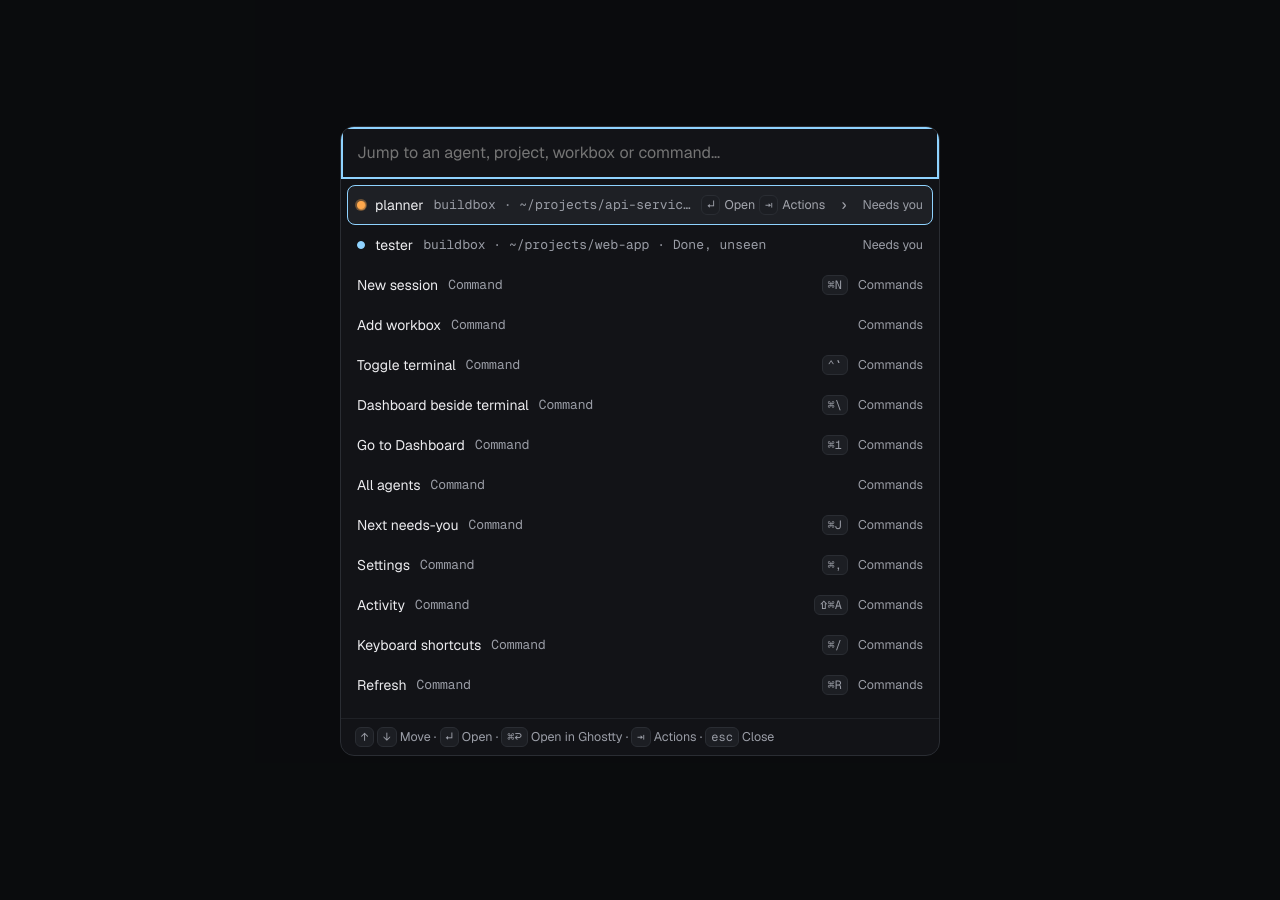
Scenario: CommandPalette agent frame › never_offers_reply_for_a_blocked_agent
Type "planner" into the dropdown at (640, 153), box [341, 127, 939, 179]
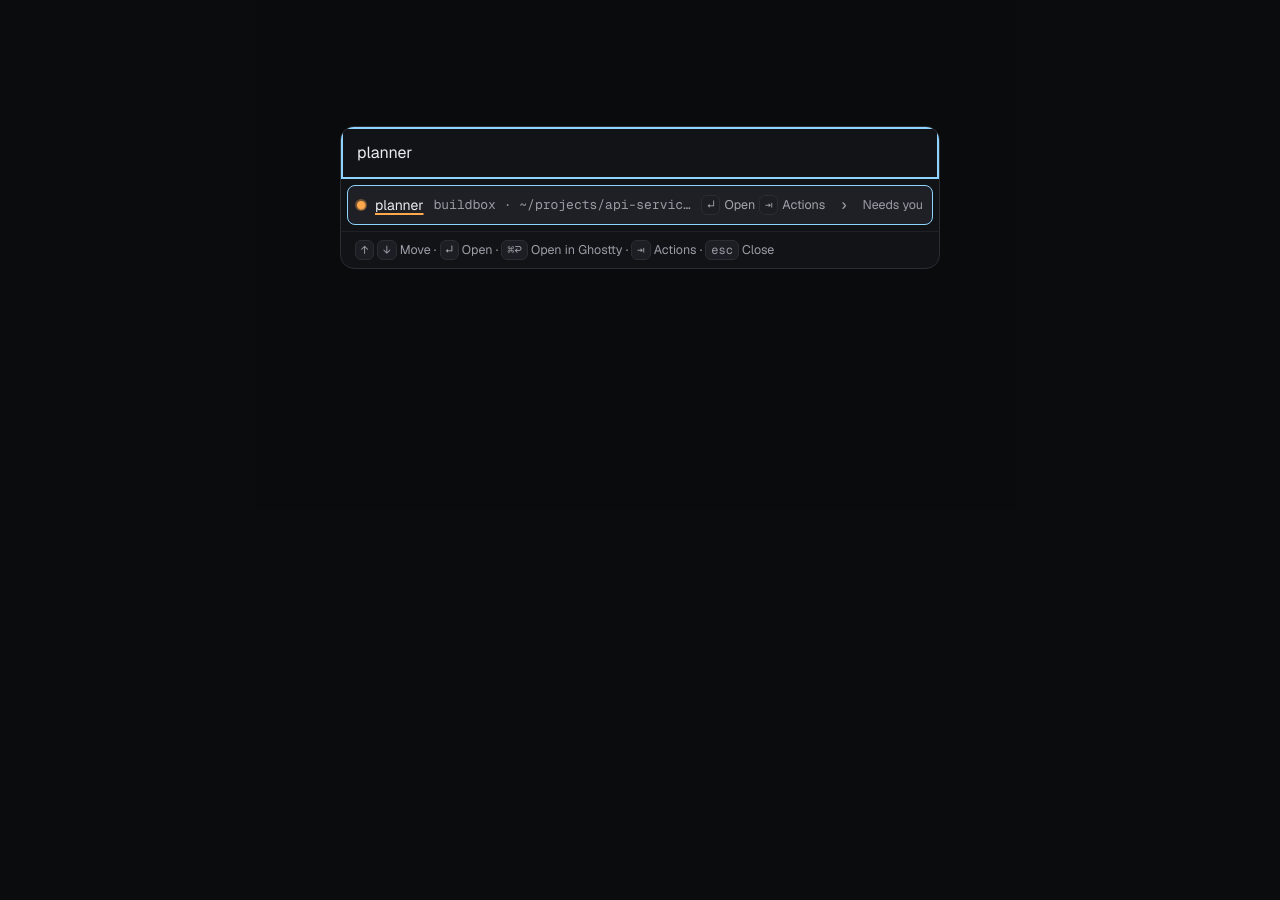
Press Tab
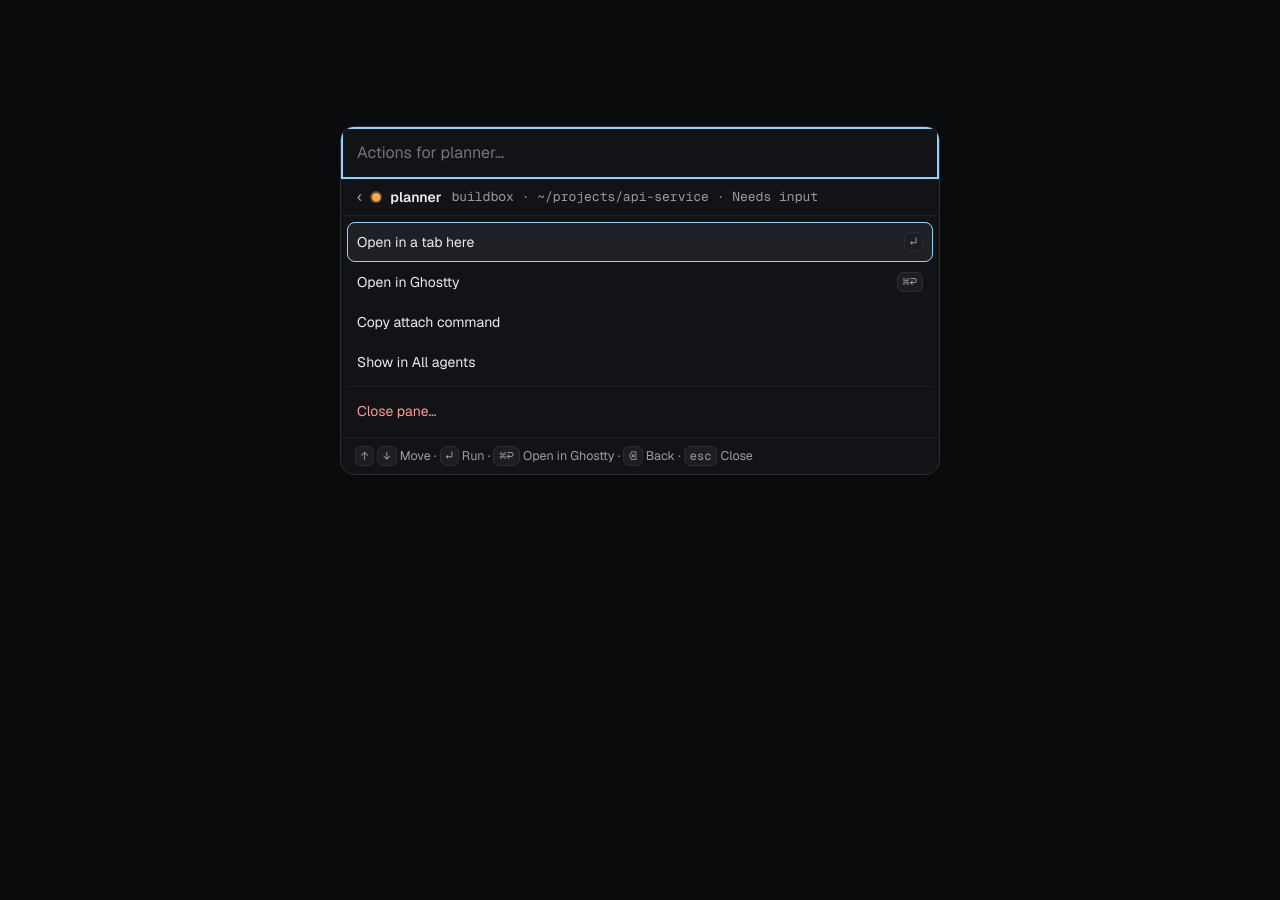
Expected: the element showing "‹ planner buildbox · ~/projects/api-service · Needs input" is shown, [341, 179, 939, 216]
